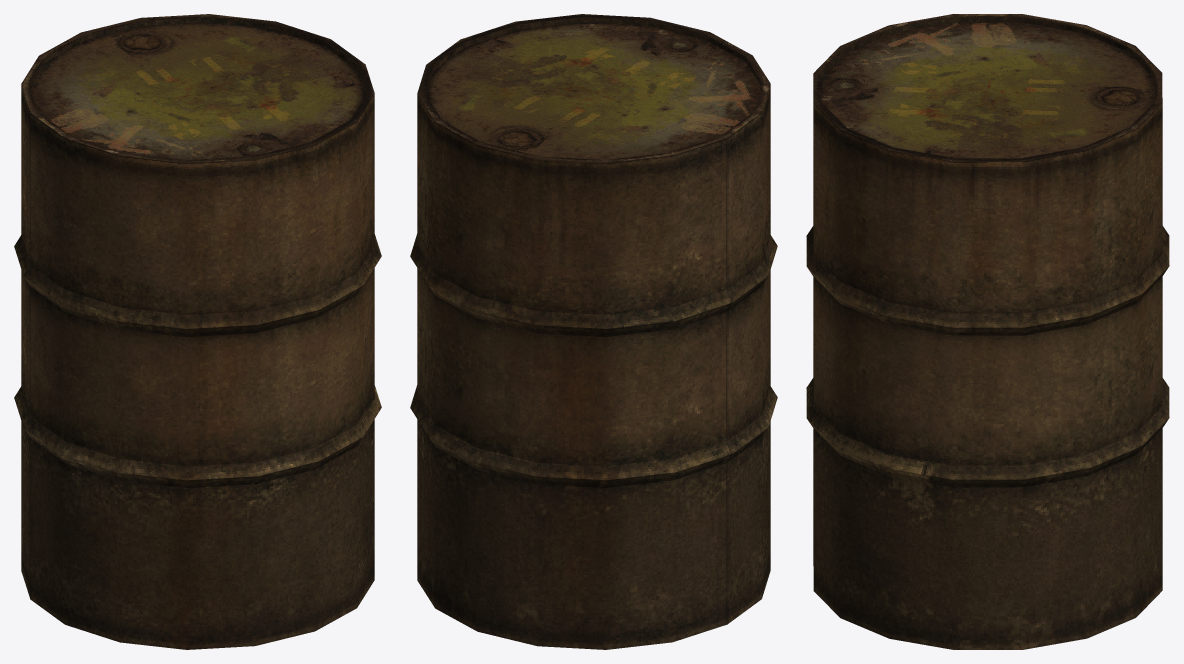
Rendered from metal_barrel_hr_1.glb.
The picture shows the model from 3 angles, left to right: view 1: azimuth 30°, elevation 25°; view 2: azimuth 150°, elevation 25°; view 3: azimuth 270°, elevation 25°; orthographic projection.
Parts seen in each view (by area): view 1: metal_barrel_hr_1; view 2: metal_barrel_hr_1; view 3: metal_barrel_hr_1.
Boxes of the visible parts, bbox=[...] form: metal_barrel_hr_1: bbox=[14, 14, 381, 649]; metal_barrel_hr_1: bbox=[410, 14, 777, 649]; metal_barrel_hr_1: bbox=[806, 14, 1169, 649].
Size of the model in its own units: 0.6735 by 1 by 0.6735.
1 material, 1 textured.
